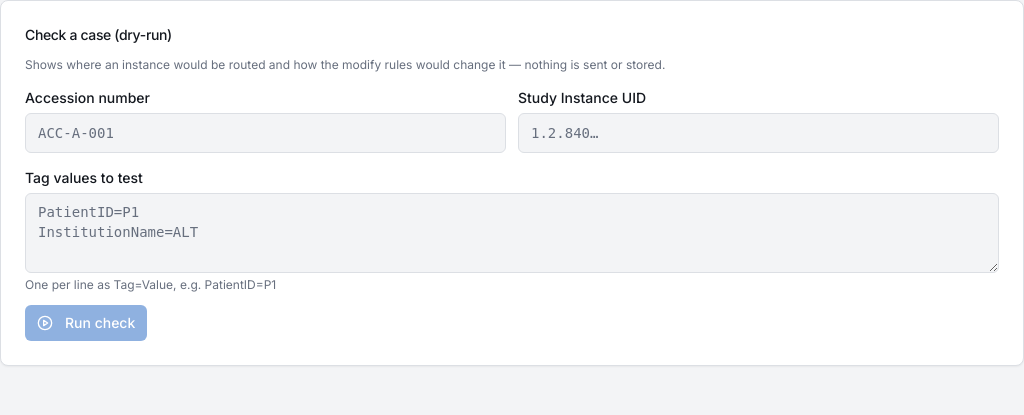
Test case: CaseCheckPanel › reports a failed simulation
Type "ACC-1" into the field labelled "Accession number" at (266, 133), box [25,113,506,153]
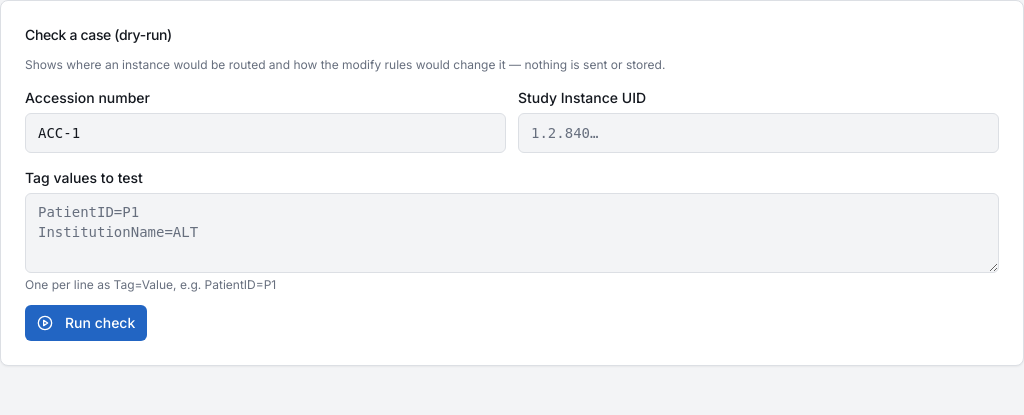
Click the button "Run check" at (86, 323), box [25,305,147,341]
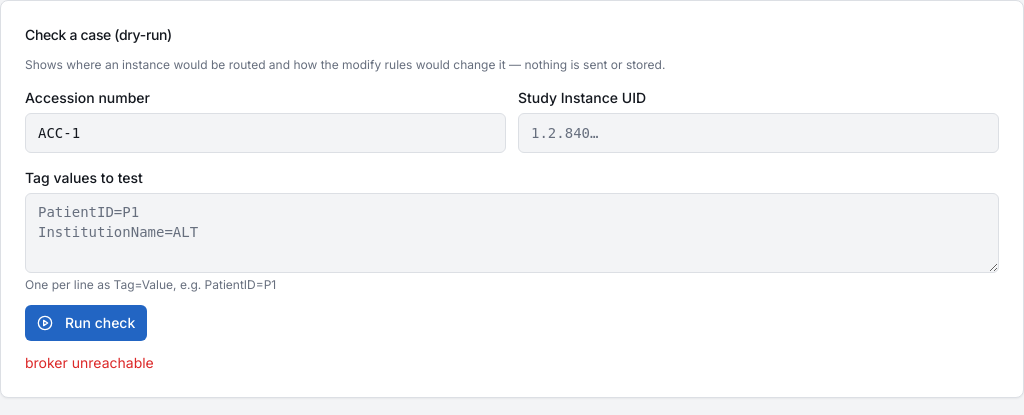
Result: the message reads "broker unreachable" at [25,354,154,371]
